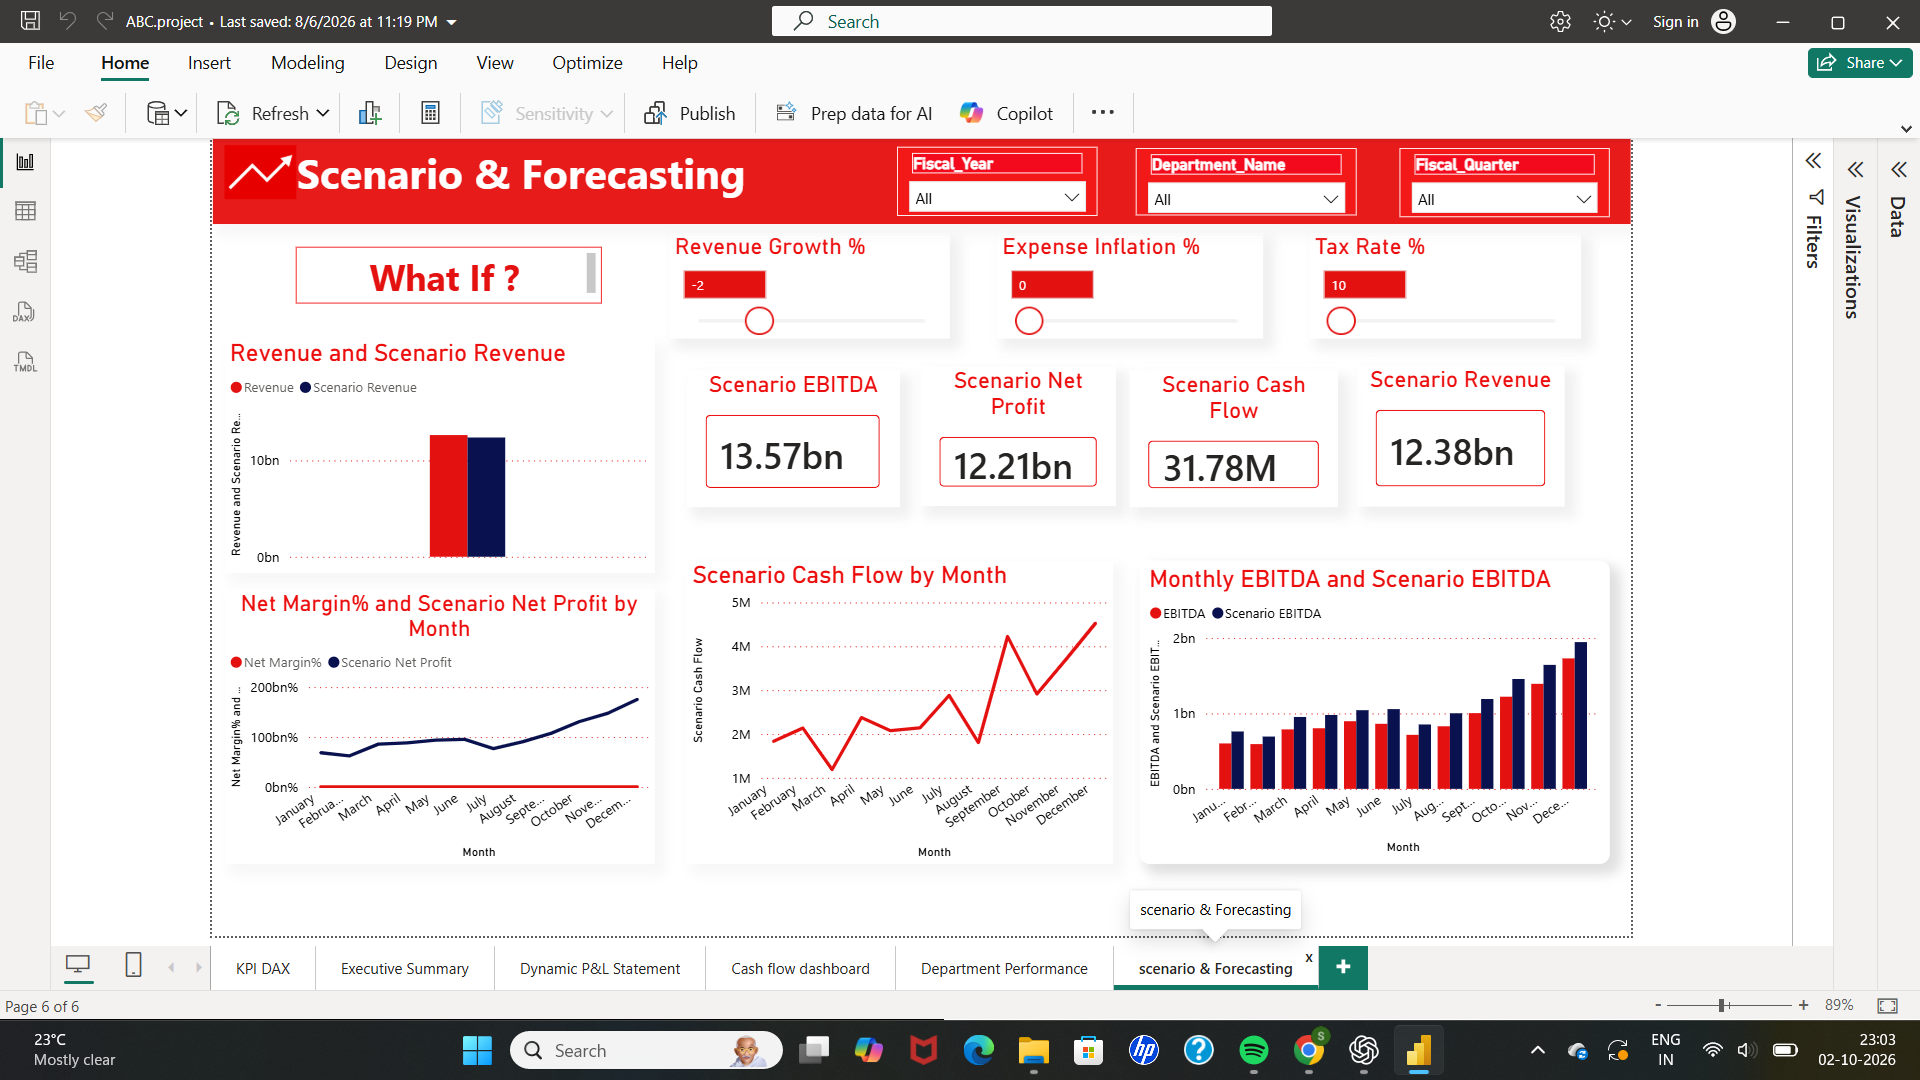

The page's visual inventory and layout, read from the dashboard file:
{"tool":"powerbi","page":{"name":"scenario & Forecasting","canvas":[1280,720],"ordinal":5},"visuals":[{"type":"slicer","title":"Revenue Growth %","fields":{"Values":["Revenue Growth %.Revenue Growth %"]},"box":[412.1,85.6,253.1,95.4],"z":0},{"type":"slicer","title":"Expense Inflation %","fields":{"Values":["Expense Inflation %.Expense Inflation %"]},"box":[708,85.6,239.7,95.4],"z":1000},{"type":"slicer","title":"Tax Rate %","fields":{"Values":["Tax Rate %.Tax Rate %"]},"box":[989.3,85.6,244.6,95.4],"z":2000},{"type":"textbox","box":[75.8,97.8,276.4,51.4],"z":3000},{"type":"cardVisual","title":"Scenario Revenue","fields":{"Data":["KPI DAX.Scenario Revenue"]},"box":[1032.1,205.4,187.1,127.2],"z":4000},{"type":"cardVisual","title":"Scenario EBITDA","fields":{"Data":["KPI DAX.Scenario EBITDA"]},"box":[428,209.1,192,123.5],"z":5000},{"type":"cardVisual","title":"Scenario Net Profit","fields":{"Data":["KPI DAX.Scenario Net Profit"]},"box":[639.5,206.7,176.1,126],"z":6000},{"type":"cardVisual","title":"Scenario Cash Flow","fields":{"Data":["KPI DAX.Scenario Cash Flow"]},"box":[827.9,209.1,188.3,123.5],"z":7000},{"type":"clusteredColumnChart","fields":{"Y":["KPI DAX.Revenue","KPI DAX.Scenario Revenue"]},"box":[11,181,387.6,210.3],"z":8000},{"type":"clusteredColumnChart","title":"Monthly EBITDA and Scenario EBITDA ","fields":{"Y":["KPI DAX.EBITDA","KPI DAX.Scenario EBITDA"],"Category":["Dim_Date.Date.Variation.Date Hierarchy.Month"]},"box":[836.4,381.5,424.3,273.9],"z":9000},{"type":"lineChart","fields":{"Y":["KPI DAX.Net Margin%","KPI DAX.Scenario Net Profit"],"Category":["Dim_Date.Date.Variation.Date Hierarchy.Month"]},"box":[11,407.2,387.6,248.2],"z":10000},{"type":"lineChart","fields":{"Category":["Dim_Date.Date.Variation.Date Hierarchy.Month"],"Y":["KPI DAX.Scenario Cash Flow"]},"box":[428,381.5,384,273.9],"z":11000},{"type":"textbox","box":[0,0,1280.3,78.3],"z":12000},{"type":"image","box":[11,0,65.1,61.5],"z":13000},{"type":"slicer","fields":{"Values":["Dim_Date.Fiscal_Year"]},"box":[617.5,7.3,181,62.4],"z":14000},{"type":"slicer","fields":{"Values":["Dim_Department.Department_Name"]},"box":[832.7,8.6,199.3,61.1],"z":15000},{"type":"slicer","fields":{"Values":["Dim_Date.Fiscal_Quarter"]},"box":[1071.2,8.6,189.5,62.4],"z":16000}]}

Visuals, with their boxes on the page's 1280x720 design canvas (x1, y1, x2, y2). These are canvas units, not pixel positions in the 1920x1080 screenshot, which may show the page scaled, cropped or inside an application window:
"Revenue Growth %" slicer: (left=412, top=86, right=665, bottom=181)
"Expense Inflation %" slicer: (left=708, top=86, right=948, bottom=181)
"Tax Rate %" slicer: (left=989, top=86, right=1234, bottom=181)
textbox: (left=76, top=98, right=352, bottom=149)
"Scenario Revenue" cardVisual: (left=1032, top=205, right=1219, bottom=333)
"Scenario EBITDA" cardVisual: (left=428, top=209, right=620, bottom=333)
"Scenario Net Profit" cardVisual: (left=640, top=207, right=816, bottom=333)
"Scenario Cash Flow" cardVisual: (left=828, top=209, right=1016, bottom=333)
clusteredColumnChart - KPI DAX.Revenue x KPI DAX.Scenario Revenue: (left=11, top=181, right=399, bottom=391)
"Monthly EBITDA and Scenario EBITDA " clusteredColumnChart: (left=836, top=382, right=1261, bottom=655)
lineChart - KPI DAX.Net Margin% x KPI DAX.Scenario Net Profit: (left=11, top=407, right=399, bottom=655)
lineChart - Dim_Date.Date.Variation.Date Hierarchy.Month x KPI DAX.Scenario Cash Flow: (left=428, top=382, right=812, bottom=655)
textbox: (left=0, top=0, right=1280, bottom=78)
image: (left=11, top=0, right=76, bottom=62)
slicer - Dim_Date.Fiscal_Year: (left=618, top=7, right=798, bottom=70)
slicer - Dim_Department.Department_Name: (left=833, top=9, right=1032, bottom=70)
slicer - Dim_Date.Fiscal_Quarter: (left=1071, top=9, right=1261, bottom=71)
